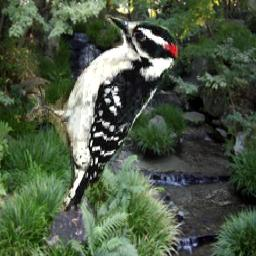Woodpecker: (14, 15, 180, 211)
